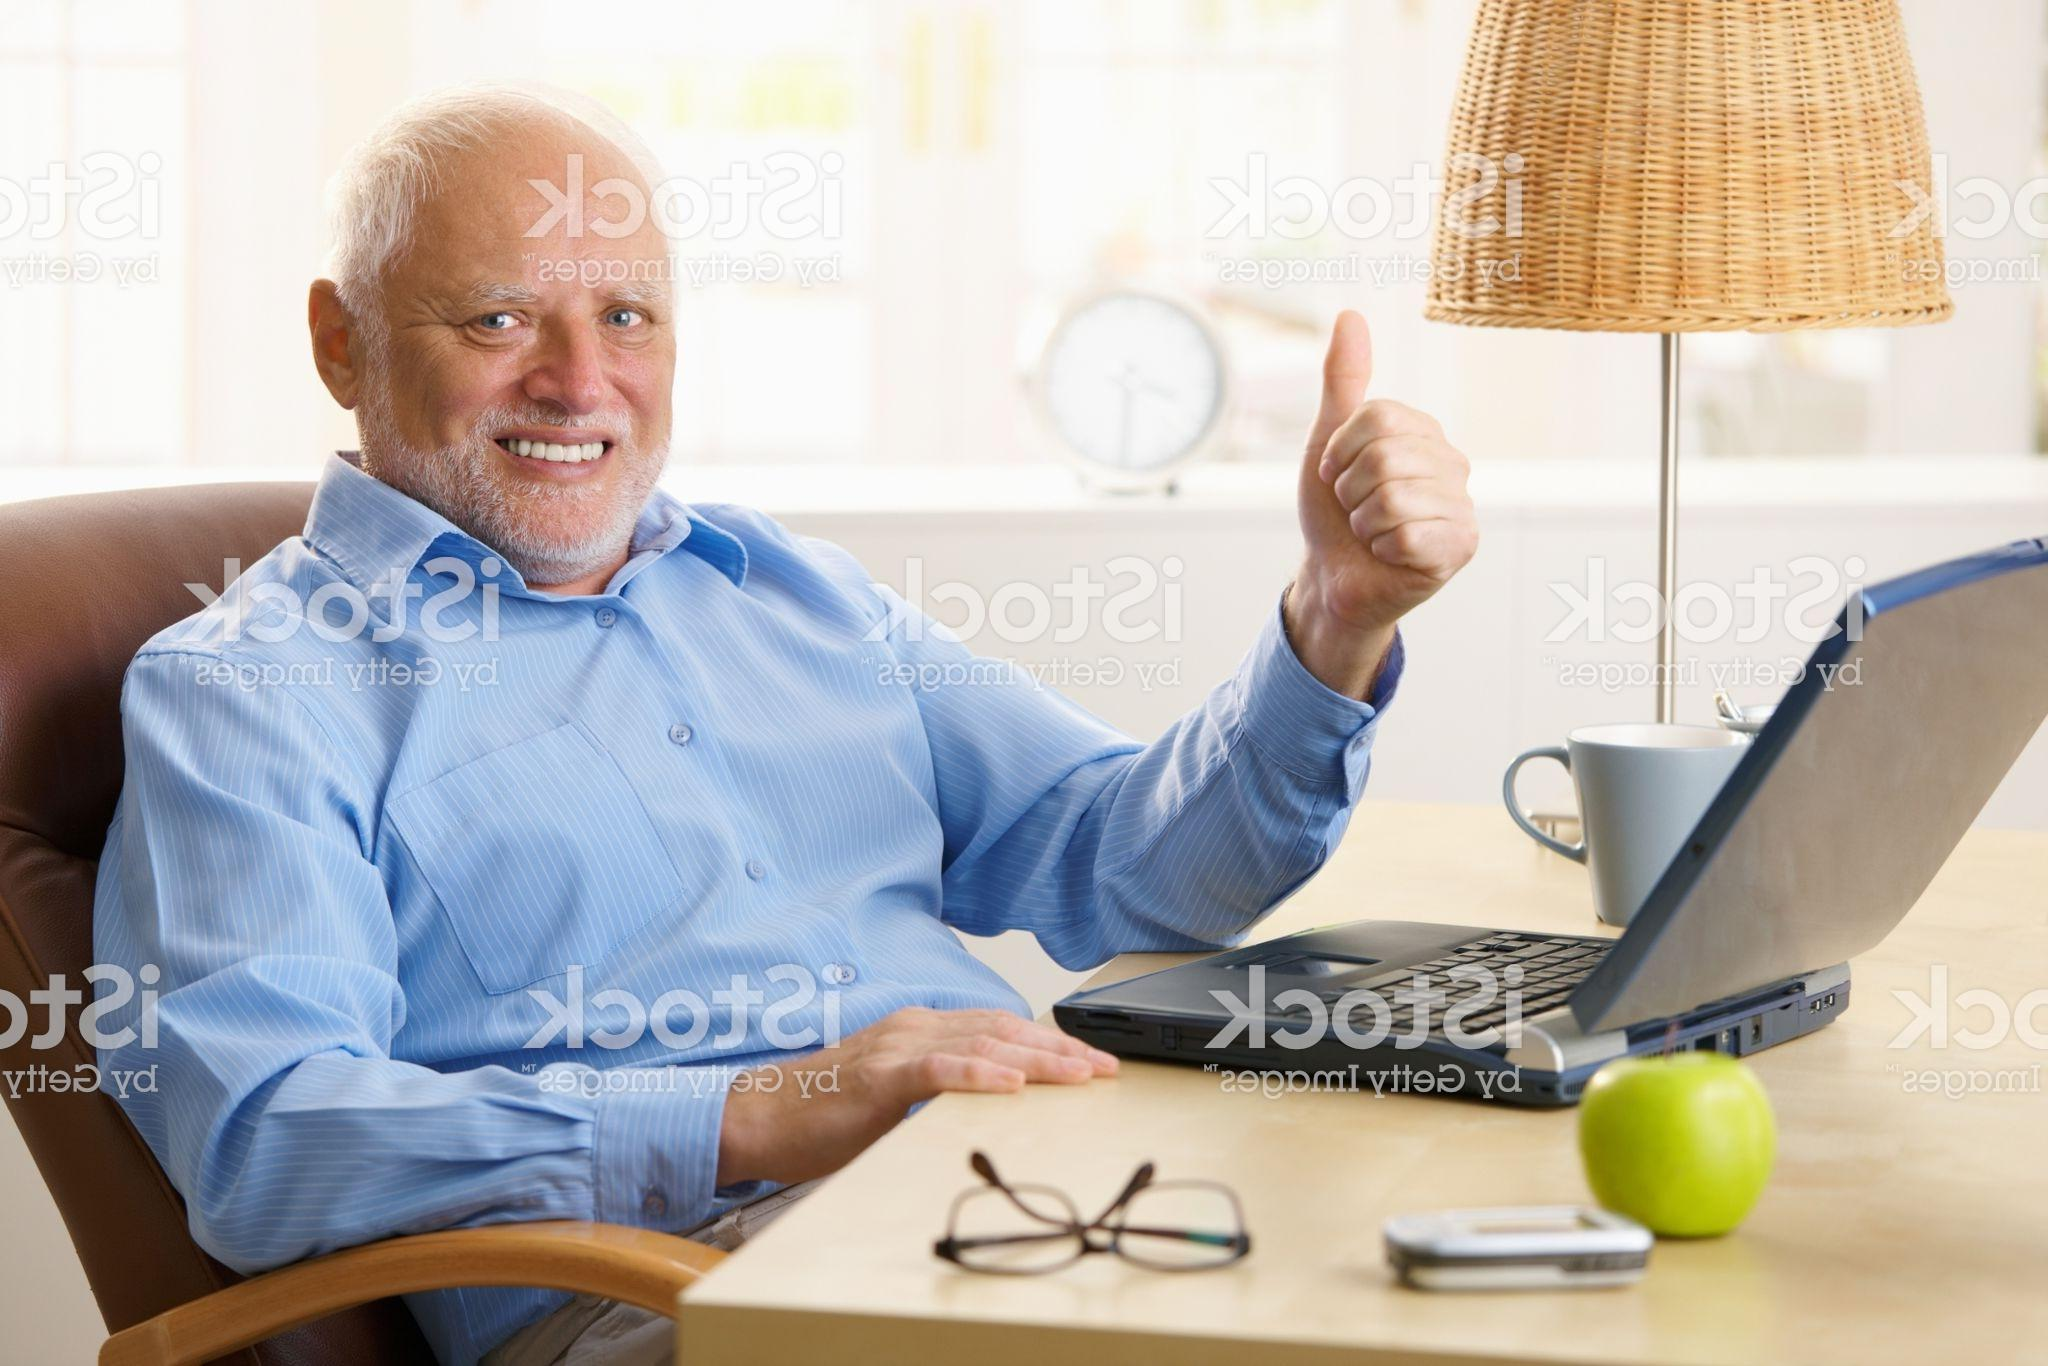thumbsup: (1320, 308, 1480, 575)
